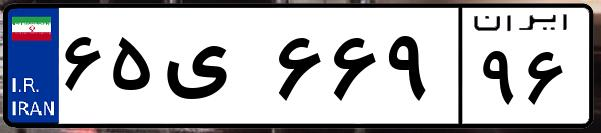5: (110, 28, 158, 98)
6: (270, 28, 330, 110), (330, 28, 385, 110), (57, 26, 110, 100), (525, 38, 570, 115)
9: (385, 28, 445, 110), (475, 38, 525, 113)
ی: (158, 20, 270, 120)
